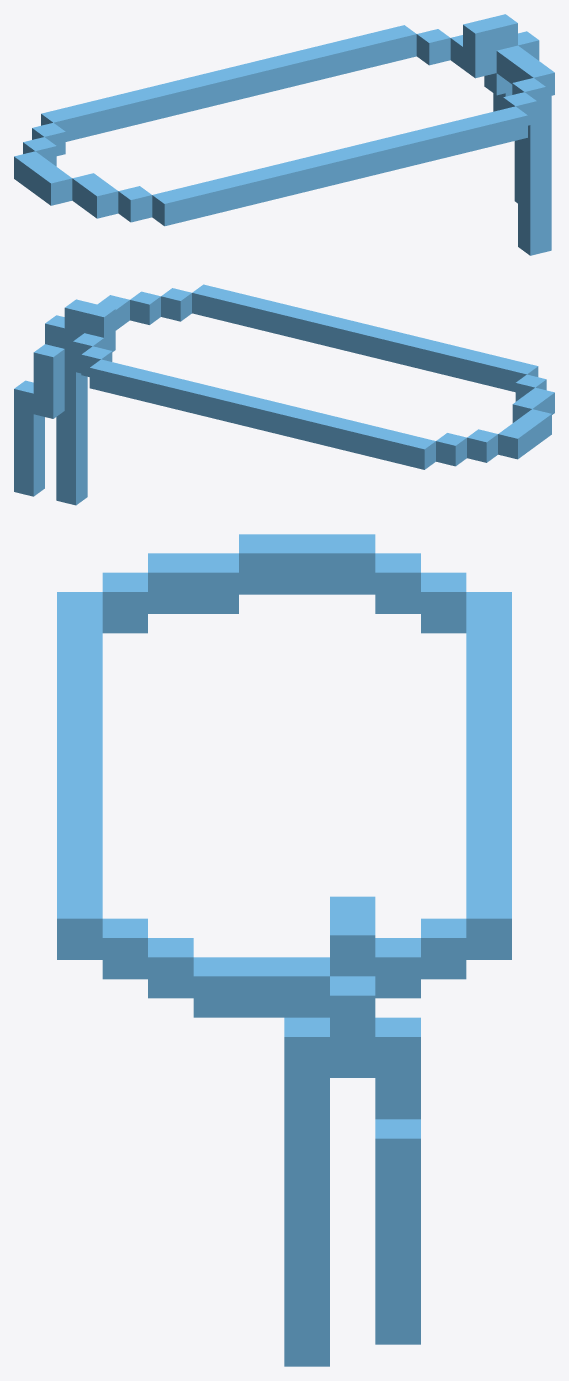
The model's file is accessories_head_bandana.glb.
3 views of the same model, one above another, from view 1: azimuth 30°, elevation 25°; view 2: azimuth 150°, elevation 25°; view 3: azimuth 270°, elevation 25° (orthographic). The views are drawn at different scales.
Visible parts, largest first — view 1: model_0; view 2: model_0; view 3: model_0.
Boxes of the visible parts, x1,y1,x2,y2 form: model_0: [14, 14, 554, 255]; model_0: [14, 284, 554, 505]; model_0: [57, 534, 511, 1366].
Bounding box in the file's own units: 25 × 10 × 10.
